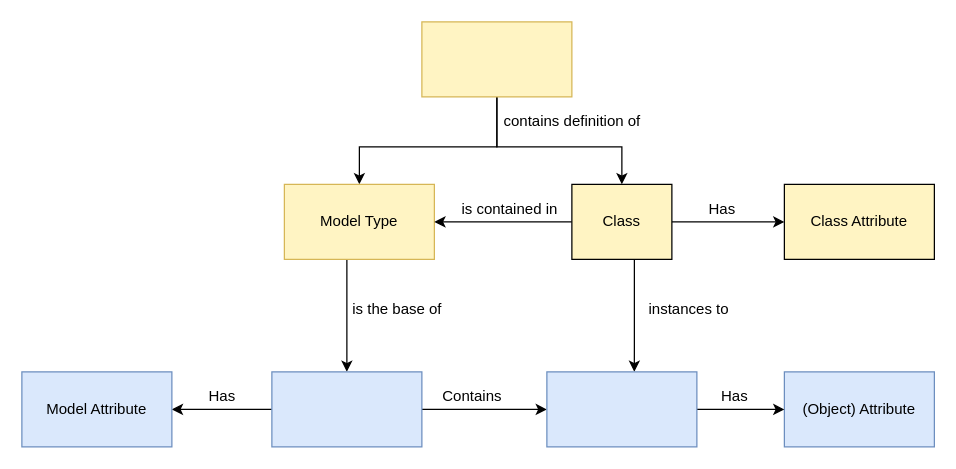
This 956x469 diagram has some shape labels left out. The centre of each missing label's shape, as x and y in pixels:
"Application Library" belongs at (x=496, y=59).
"Model" belongs at (x=346, y=409).
"Object" belongs at (x=621, y=409).
